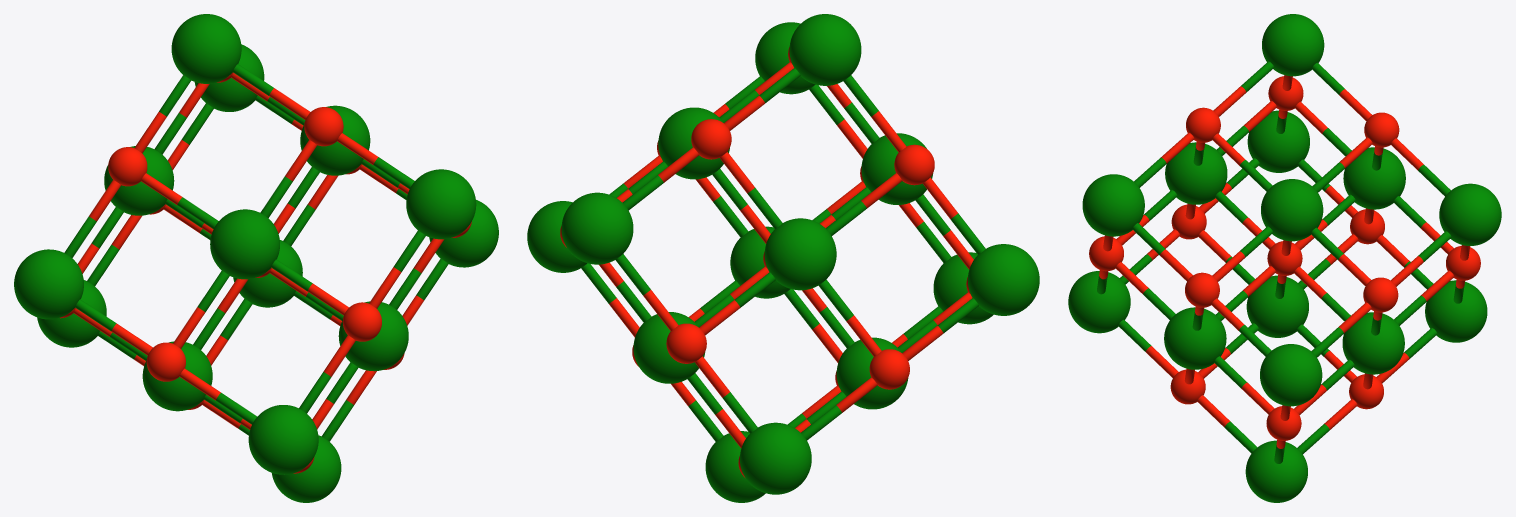
File: MgO.glb
The picture shows the model from 3 angles, left to right: view 1: azimuth 30°, elevation 25°; view 2: azimuth 150°, elevation 25°; view 3: azimuth 270°, elevation 25°; orthographic projection. The views are drawn at different scales.
Parts seen in each view (by area): view 1: CMAtom_24, CMAtom_26, CMAtom_16, CMAtom_13, CMAtom_12, CMAtom_19, CMAtom_22, CMAtom_9, CMAtom_18, CMAtom_2, CMAtom_1, CMAtom_8 (+6 smaller); view 2: CMAtom_0, CMAtom_8, CMAtom_12, CMAtom_1, CMAtom_16, CMAtom_3, CMAtom_2, CMAtom_18, CMAtom_9, CMAtom_13, CMAtom_22, CMAtom_24 (+6 smaller); view 3: CMAtom_18, CMAtom_24, CMAtom_0, CMAtom_2, CMAtom_12, CMAtom_22, CMAtom_19, CMAtom_26, CMAtom_3, CMAtom_8, CMAtom_1, CMAtom_13 (+15 smaller).
Part boxes in pixels (left/top/right/bottom): CMAtom_24: left=406, top=169, right=476, bottom=239; CMAtom_26: left=248, top=405, right=318, bottom=474; CMAtom_16: left=14, top=249, right=83, bottom=319; CMAtom_13: left=210, top=209, right=279, bottom=279; CMAtom_12: left=171, top=14, right=241, bottom=83; CMAtom_19: left=338, top=301, right=408, bottom=371; CMAtom_22: left=272, top=435, right=341, bottom=502; CMAtom_9: left=142, top=341, right=212, bottom=411; CMAtom_18: left=429, top=200, right=498, bottom=267; CMAtom_2: left=300, top=105, right=370, bottom=175; CMAtom_1: left=104, top=146, right=174, bottom=215; CMAtom_8: left=37, top=280, right=106, bottom=347; CMAtom_0: left=561, top=192, right=633, bottom=264; CMAtom_8: left=740, top=422, right=811, bottom=494; CMAtom_12: left=789, top=14, right=861, bottom=85; CMAtom_1: left=764, top=218, right=836, bottom=290; CMAtom_16: left=967, top=244, right=1039, bottom=315; CMAtom_3: left=633, top=312, right=705, bottom=383; CMAtom_2: left=658, top=107, right=729, bottom=179; CMAtom_18: left=527, top=201, right=587, bottom=272; CMAtom_9: left=836, top=337, right=908, bottom=409; CMAtom_13: left=861, top=133, right=933, bottom=204; CMAtom_22: left=705, top=431, right=765, bottom=502; CMAtom_24: left=755, top=22, right=815, bottom=94; CMAtom_18: left=1260, top=344, right=1322, bottom=406; CMAtom_24: left=1082, top=174, right=1144, bottom=236; CMAtom_0: left=1439, top=183, right=1501, bottom=245; CMAtom_2: left=1261, top=179, right=1323, bottom=241; CMAtom_12: left=1262, top=14, right=1324, bottom=76; CMAtom_22: left=1245, top=440, right=1307, bottom=502; CMAtom_19: left=1164, top=307, right=1226, bottom=369; CMAtom_26: left=1068, top=271, right=1130, bottom=333; CMAtom_3: left=1342, top=312, right=1404, bottom=374; CMAtom_8: left=1425, top=280, right=1487, bottom=342; CMAtom_1: left=1343, top=147, right=1405, bottom=209; CMAtom_13: left=1165, top=142, right=1227, bottom=204.
Bounding box in the file's own units: 8.27 × 8.16 × 7.22.
